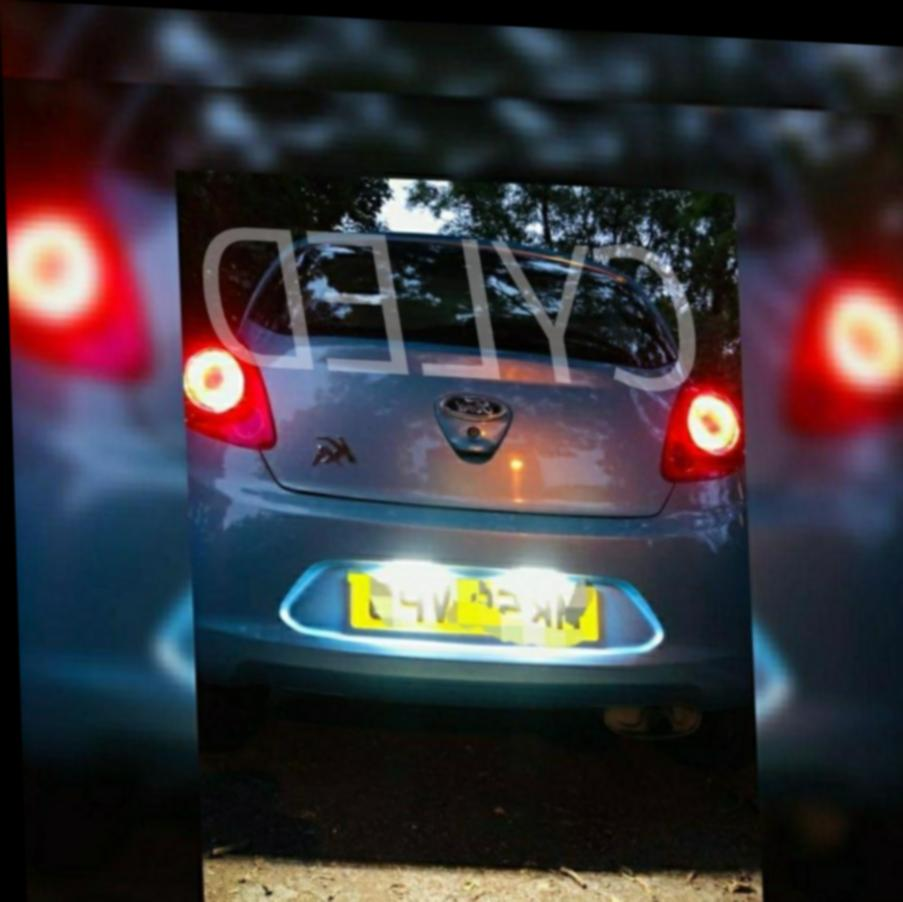License_Plate: (327, 549, 622, 662)
